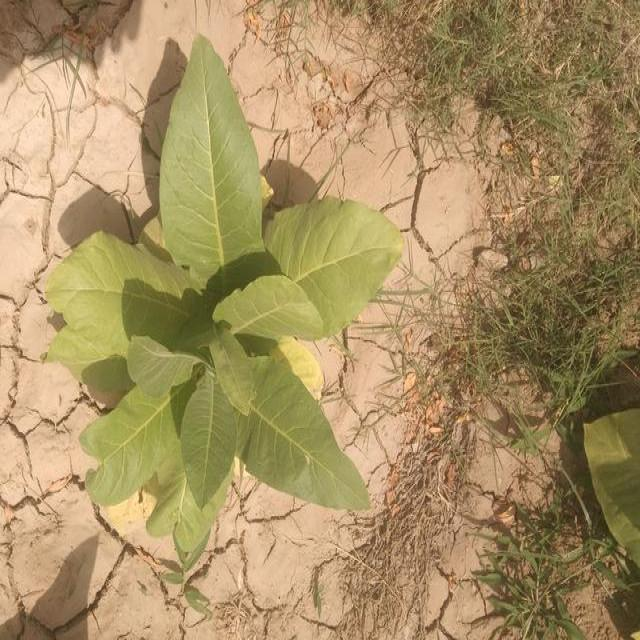crop: (63, 24, 405, 570)
